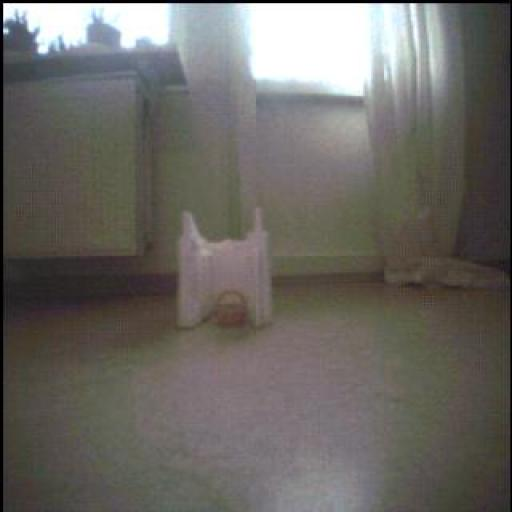Basket: (214, 291, 249, 328)
